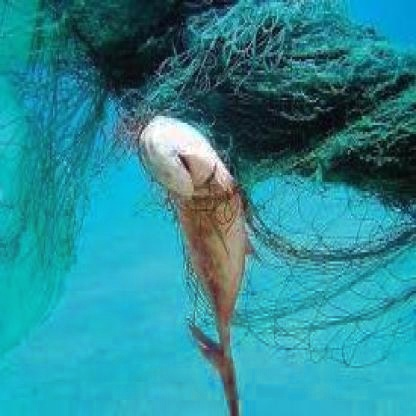net: (39, 2, 416, 189)
